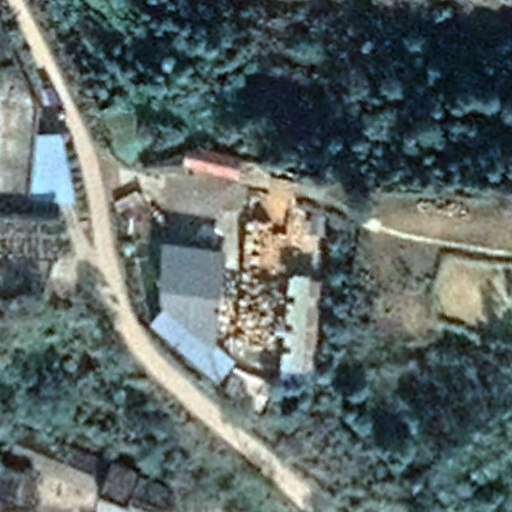msw: (224, 208, 290, 376)
